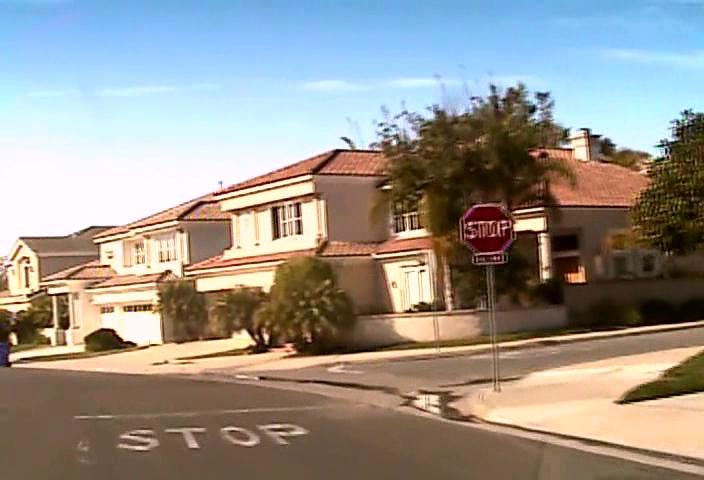stop: (459, 203, 516, 254)
